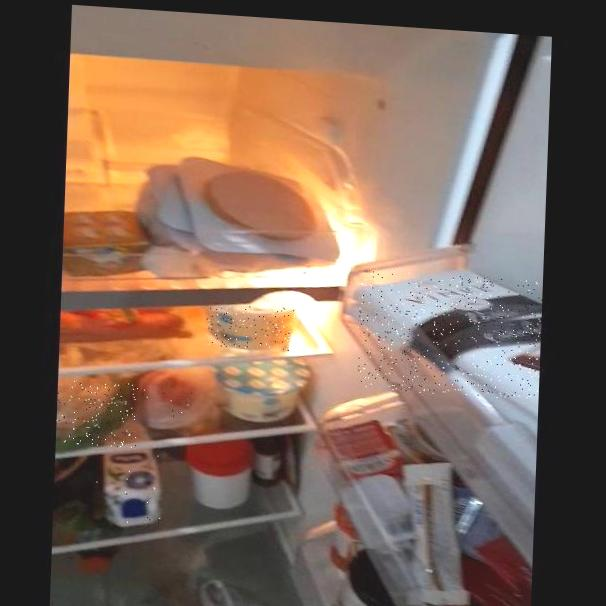carrot: (60, 305, 190, 346)
chocolate: (356, 270, 543, 401)
green chilies: (56, 379, 138, 448)
milk: (93, 449, 167, 527)
tomato: (139, 374, 200, 418)
yoghurt: (205, 301, 296, 351)
